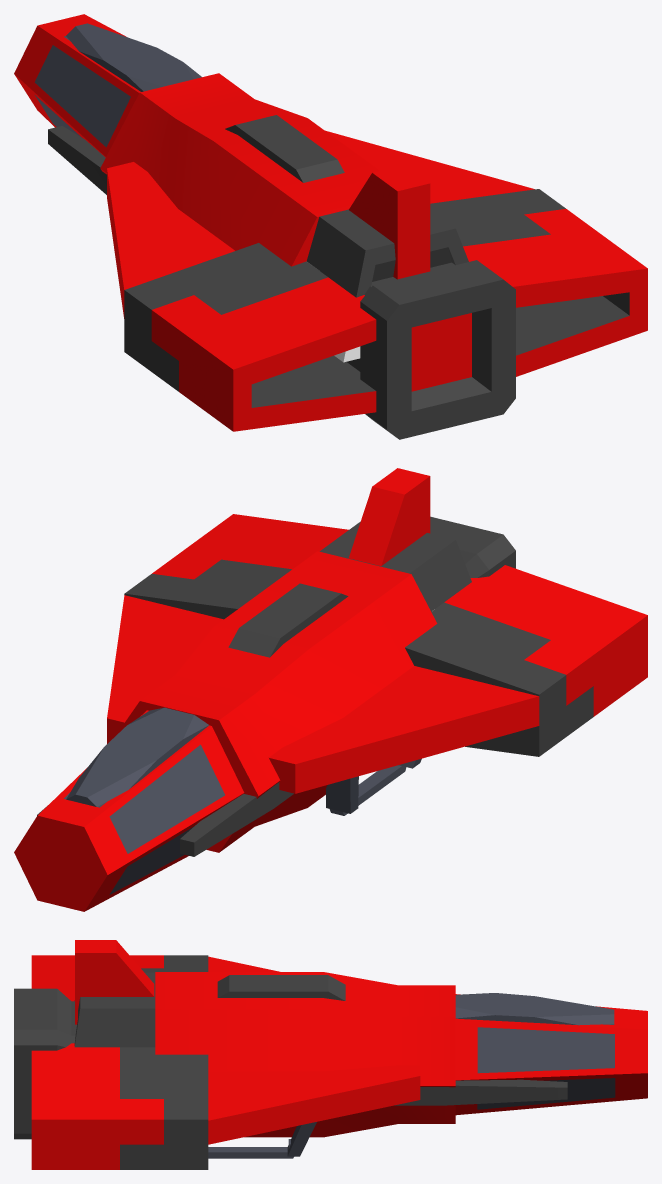
The model's file is SpaceShip2.fbx.
3 views of the same model, one above another, from view 1: azimuth 30°, elevation 25°; view 2: azimuth 150°, elevation 25°; view 3: azimuth 270°, elevation 25° (orthographic). The views are drawn at different scales.
Parts seen in each view (by area): view 1: engine_side_2, engine_rocket%_3, engine_large_0, engine_side_1, glass_ufo%_16, wing_endLong_21, engine_intake_5, plane_rudder_22, glass_high_25, wing_endLong_32, detail_fenderSquare_34, engine_plane_18; view 2: engine_rocket%_3, engine_side_2, glass_ufo%_16, wing_endLong_21, engine_side_1, wing_endLong_32, glass_high_25, plane_rudder_22, engine_intake_5, detail_fenderSquare_34, engine_plane_18, engine_large_0 (+2 smaller); view 3: engine_rocket%_3, engine_side_1, glass_ufo%_16, wing_endLong_32, engine_large_0, engine_intake_5, glass_high_25, plane_rudder_22, engine_plane_17, detail_fenderSquare_34, engine_side_2, detail_roofRails%_33 (+2 smaller).
Part boxes in pixels (bbox=[...]): engine_side_2: bbox=[124, 243, 376, 431]; engine_rocket%_3: bbox=[100, 73, 379, 266]; engine_large_0: bbox=[360, 260, 515, 439]; engine_side_1: bbox=[430, 189, 647, 376]; glass_ufo%_16: bbox=[14, 14, 140, 157]; wing_endLong_21: bbox=[107, 162, 234, 318]; engine_intake_5: bbox=[306, 209, 468, 362]; plane_rudder_22: bbox=[349, 165, 430, 279]; glass_high_25: bbox=[66, 23, 201, 91]; wing_endLong_32: bbox=[325, 130, 534, 203]; detail_fenderSquare_34: bbox=[225, 115, 344, 182]; engine_plane_18: bbox=[48, 126, 106, 194]; engine_rocket%_3: bbox=[115, 551, 437, 852]; engine_side_2: bbox=[405, 565, 647, 756]; glass_ufo%_16: bbox=[14, 710, 244, 911]; wing_endLong_21: bbox=[269, 666, 539, 793]; engine_side_1: bbox=[124, 514, 348, 619]; wing_endLong_32: bbox=[107, 595, 223, 743]; glass_high_25: bbox=[66, 707, 208, 806]; plane_rudder_22: bbox=[349, 468, 430, 565]; engine_intake_5: bbox=[320, 521, 471, 611]; detail_fenderSquare_34: bbox=[228, 583, 348, 657]; engine_plane_18: bbox=[180, 782, 293, 856]; engine_large_0: bbox=[430, 516, 515, 577]; engine_rocket%_3: bbox=[155, 972, 455, 1137]; engine_side_1: bbox=[31, 1043, 208, 1169]; glass_ufo%_16: bbox=[455, 994, 647, 1115]; wing_endLong_32: bbox=[208, 1065, 420, 1144]; engine_large_0: bbox=[14, 988, 76, 1139]; engine_intake_5: bbox=[74, 972, 155, 1047]; glass_high_25: bbox=[455, 993, 614, 1025]; plane_rudder_22: bbox=[75, 940, 154, 1024]; engine_plane_17: bbox=[394, 1079, 567, 1105]; detail_fenderSquare_34: bbox=[217, 975, 345, 1000]; engine_side_2: bbox=[31, 955, 208, 1001]; detail_roofRails%_33: bbox=[208, 1139, 293, 1158].
Size of the model in its own units: 22 by 11.66 by 35.9.
